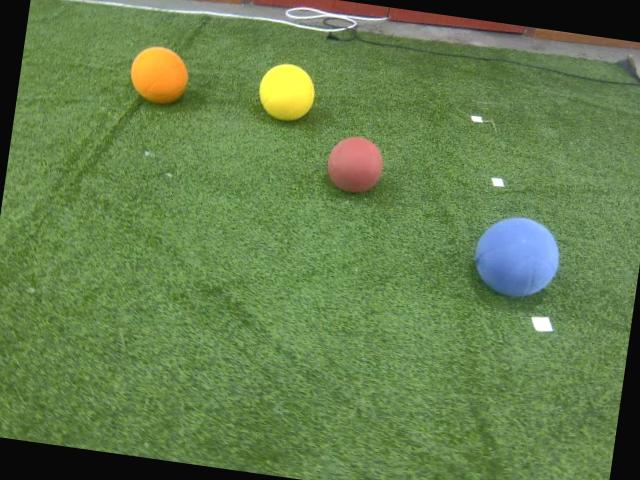blue_ball: (470, 211, 564, 304)
orange_ball: (125, 42, 193, 110)
red_ball: (323, 132, 388, 197)
yellow_ball: (254, 60, 318, 125)
